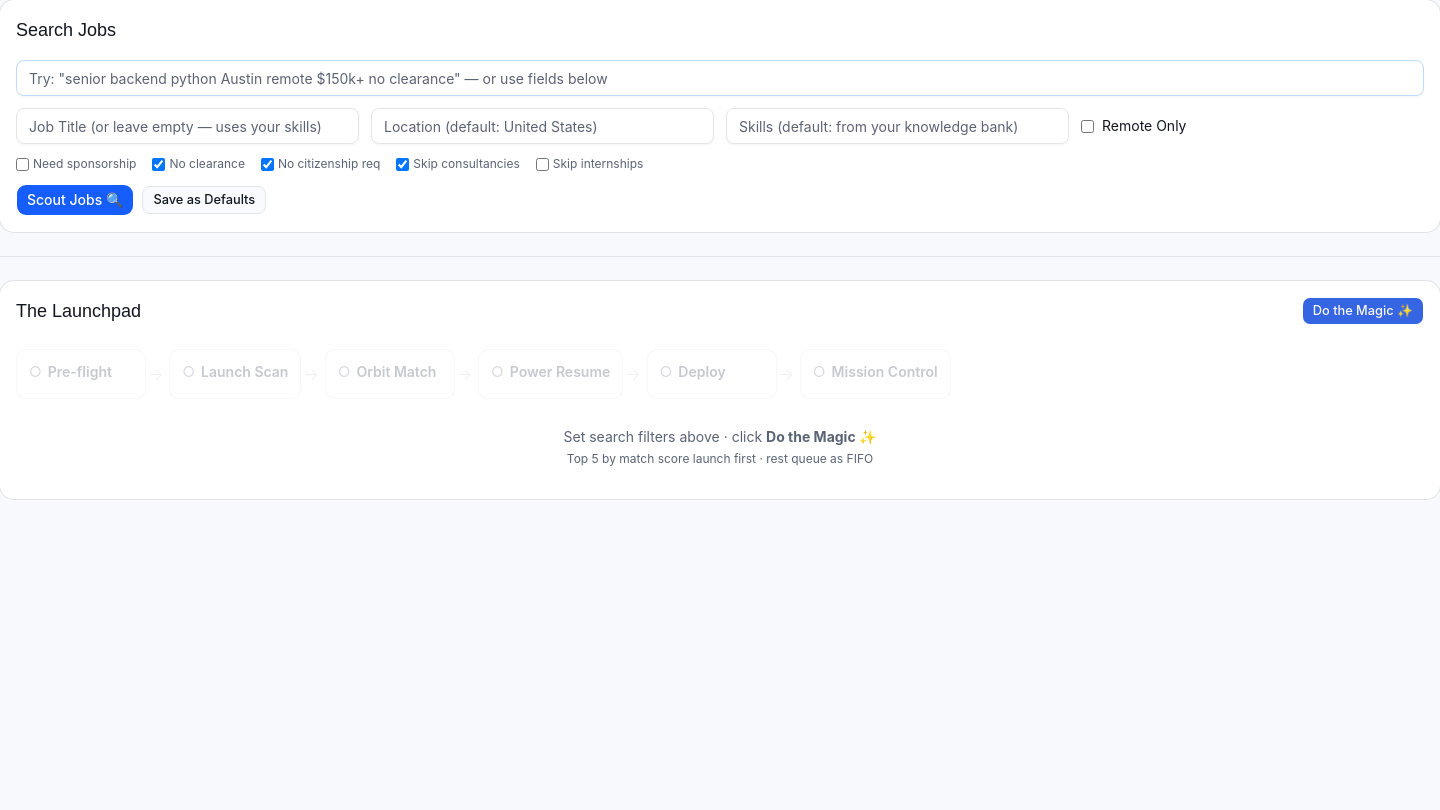
Test: JobSearchTab — opening detail and rating › Generate from JobDetail opens the PreviewModal
The width and height of the screenshot is (1440, 810).
What coordinates should you click on to do the following:
click the button "Scout Jobs 🔍"
I would click on:
 (75, 200)
Its box is [16, 184, 134, 216].
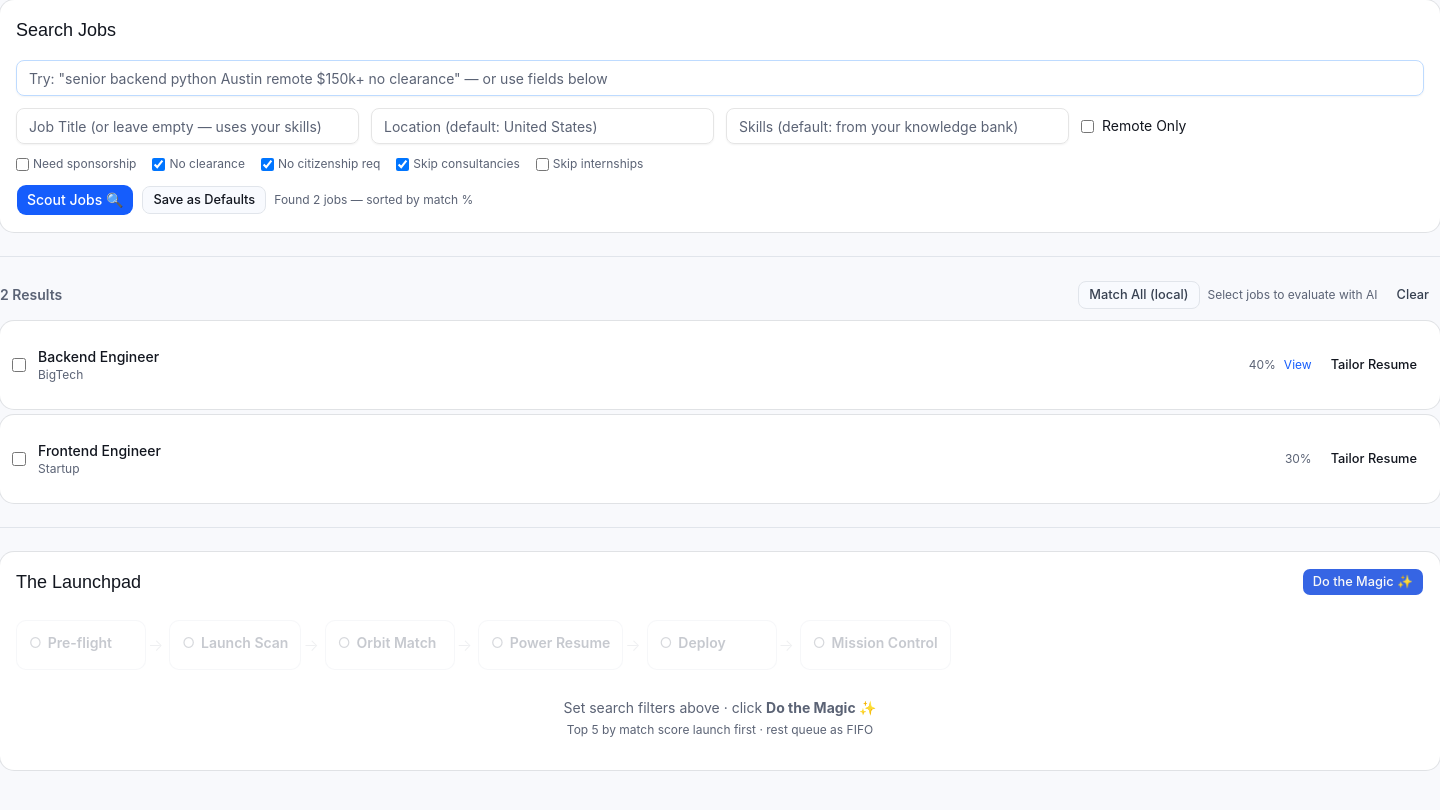
Check: the text "Backend Engineer" is shown
What coordinates should you click on to do the following:
click the text "Backend Engineer"
I would click on:
 (99, 357)
Its box is [38, 347, 159, 367].
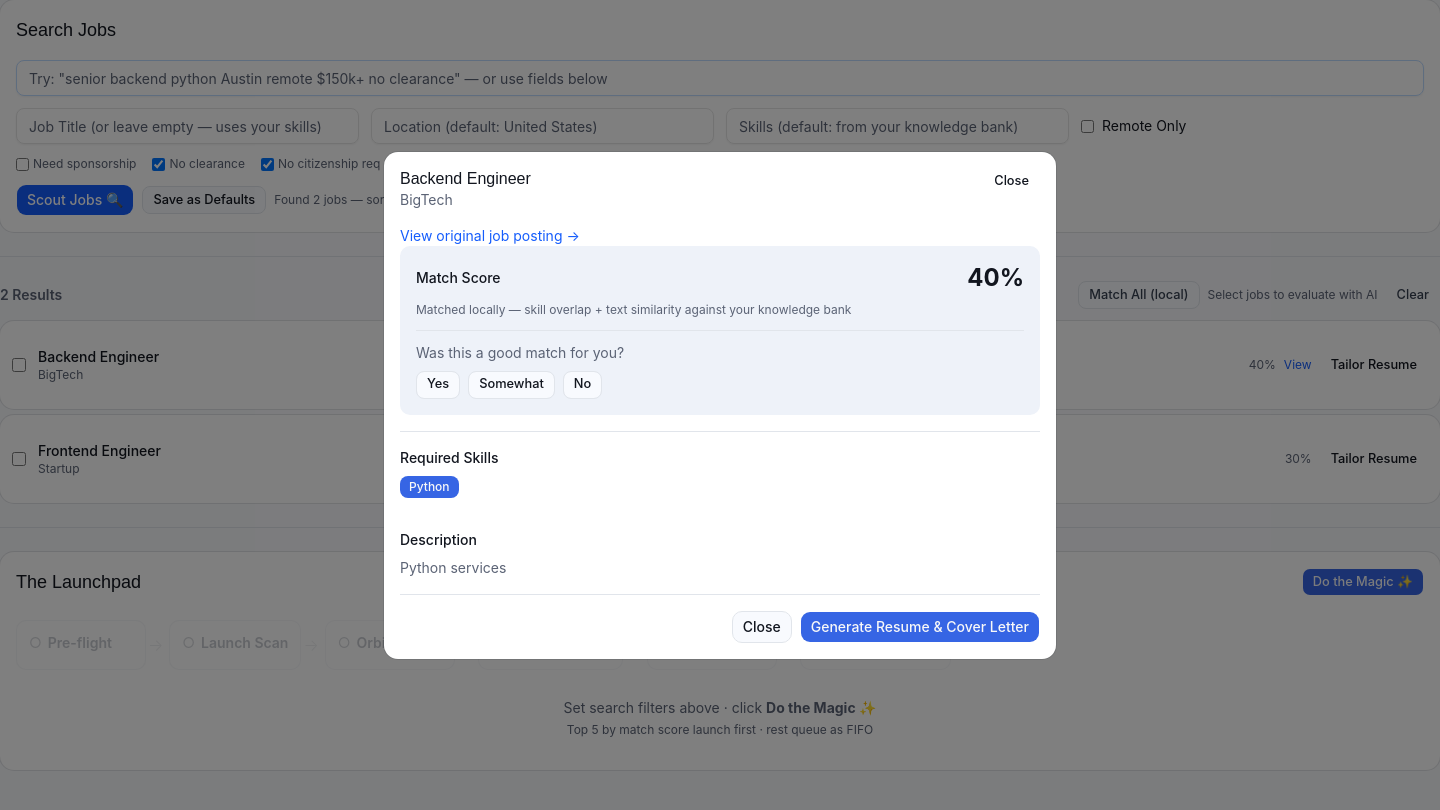
What coordinates should you click on to do the following:
click the button "Generate Resume & Cover Letter"
I would click on:
 (920, 626)
Its box is [800, 610, 1040, 642].
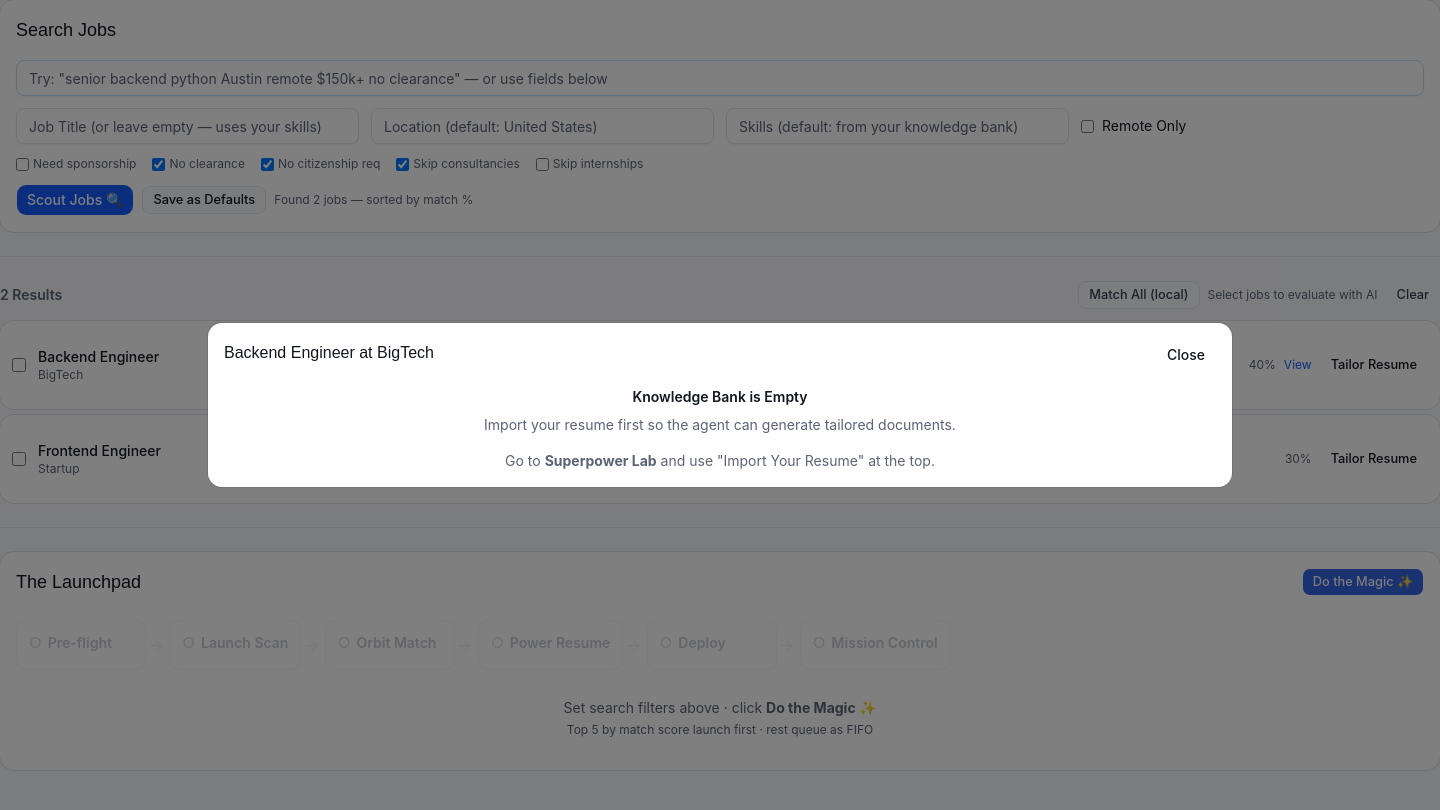
Check: the dialog named "Resume preview: Backend Engineer" is shown
